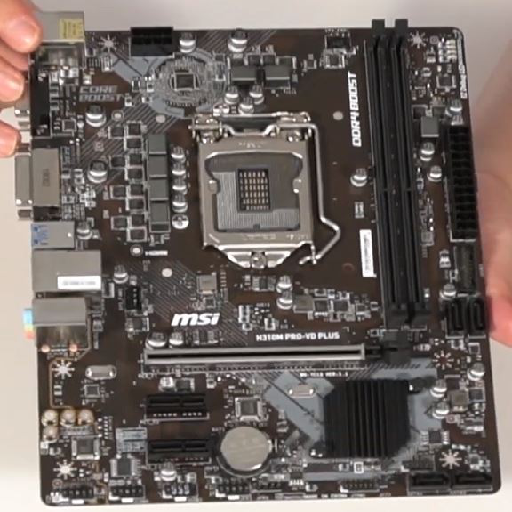CPU: (192, 106, 326, 268)
GPU: (138, 341, 408, 371)
MOTHERBOARD: (19, 16, 505, 498)
RAM: (361, 18, 435, 328)
